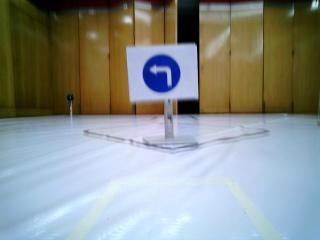left: (126, 45, 199, 99)
